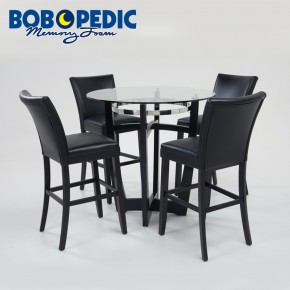chair: (19, 88, 127, 253), (160, 96, 257, 254), (71, 78, 140, 139), (209, 74, 258, 100)
